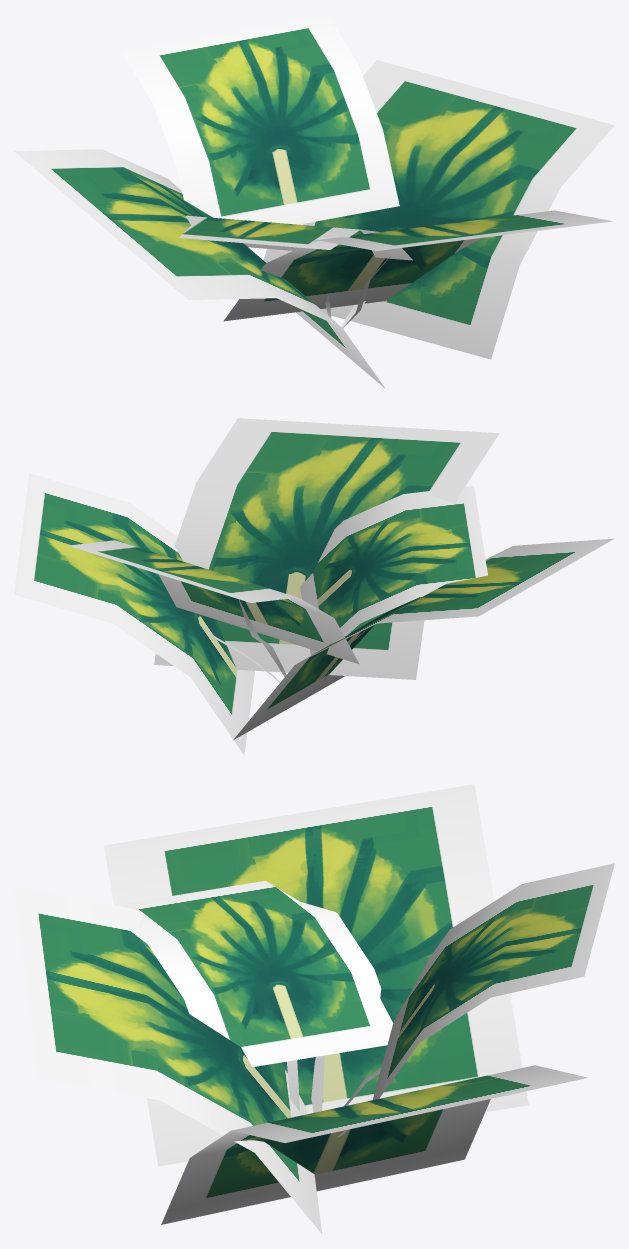
File: SM_Fern.fbx
3 views of the same model, one above another, from view 1: azimuth 30°, elevation 25°; view 2: azimuth 150°, elevation 25°; view 3: azimuth 270°, elevation 25° (orthographic). The views are drawn at different scales.
Parts seen in each view (by area): view 1: FernMesh; view 2: FernMesh; view 3: FernMesh.
Boxes of the visible parts, <box> form: FernMesh: <box>14,14,614,388</box>; FernMesh: <box>14,418,614,755</box>; FernMesh: <box>14,784,614,1234</box>.
Bounding box in the file's own units: 536 × 212 × 445.
